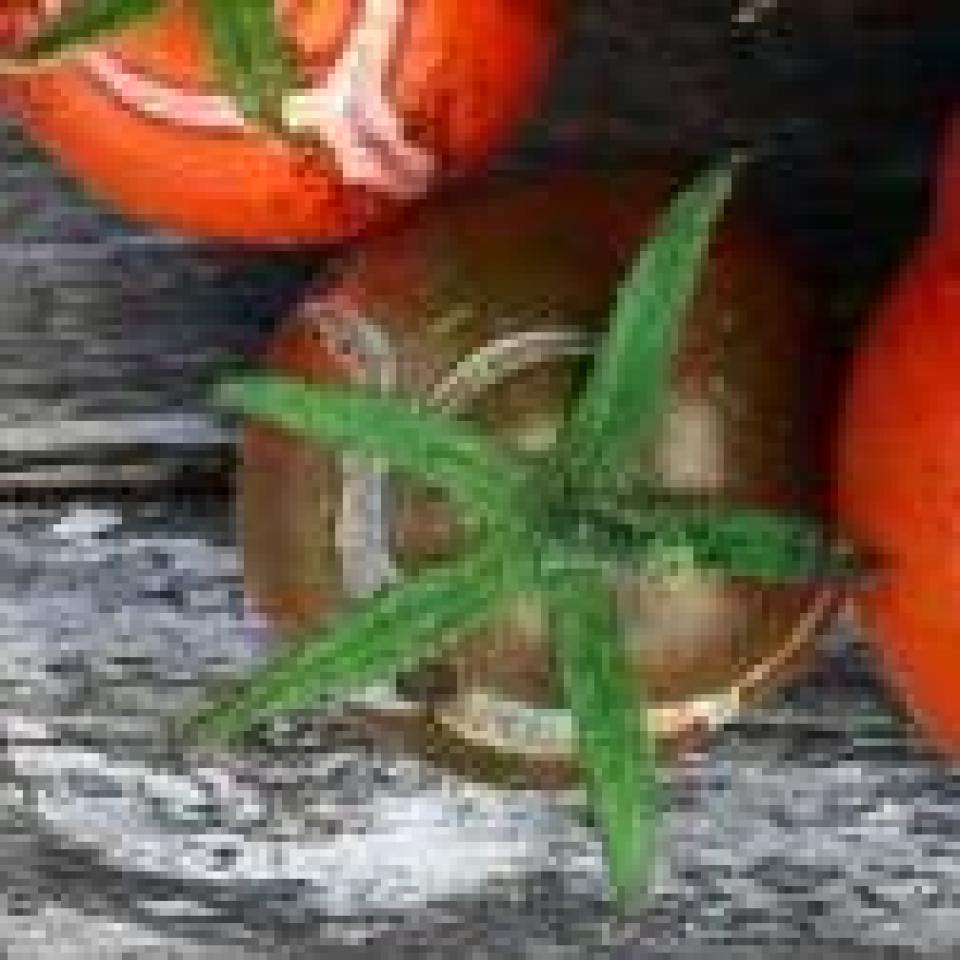Cracking: (282, 273, 780, 742), (0, 0, 472, 199)
